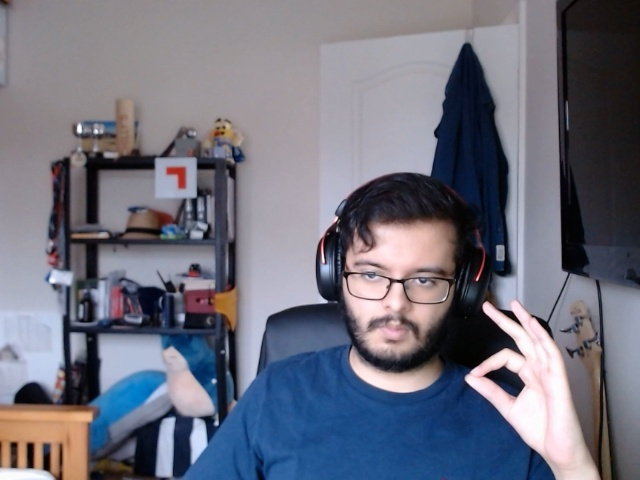Okay: (454, 297, 585, 467)
